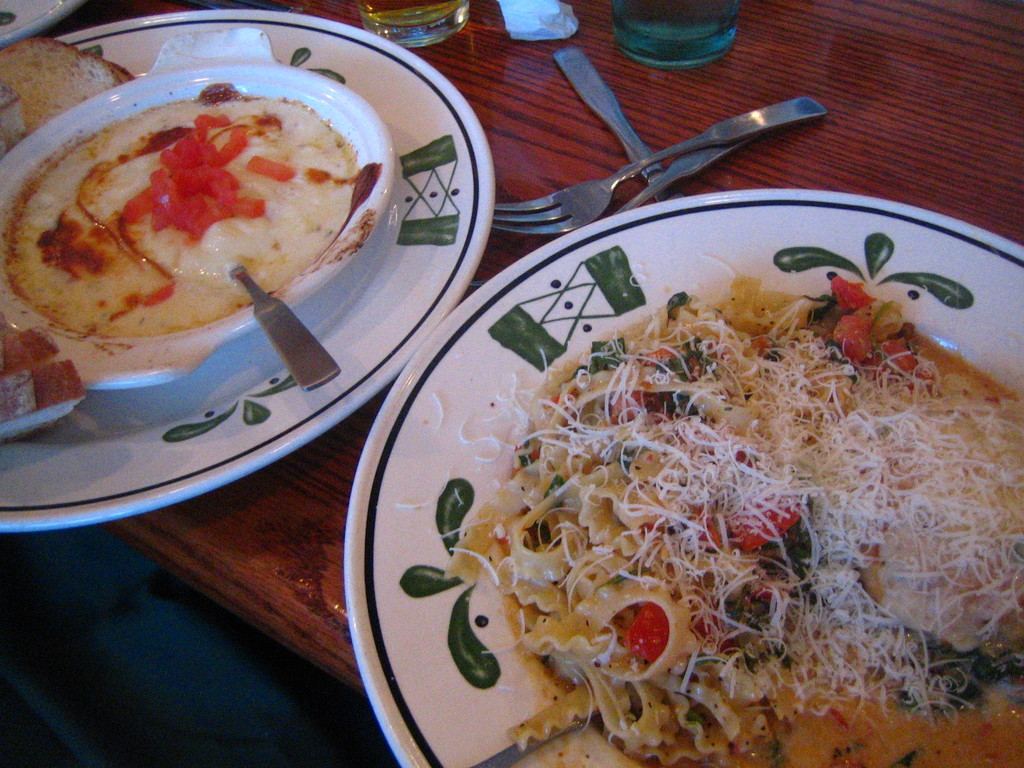Pizza: (449, 268, 1023, 766), (16, 57, 372, 357)
